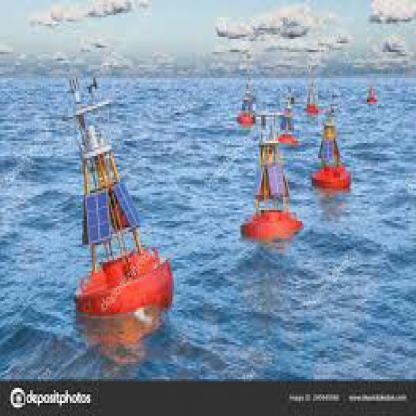buoy: (62, 67, 182, 323), (237, 111, 307, 247), (307, 110, 356, 202)
